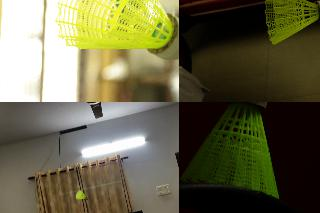shuttlecock: (179, 102, 279, 199), (55, 0, 178, 59), (264, 0, 319, 46), (75, 190, 88, 200)
